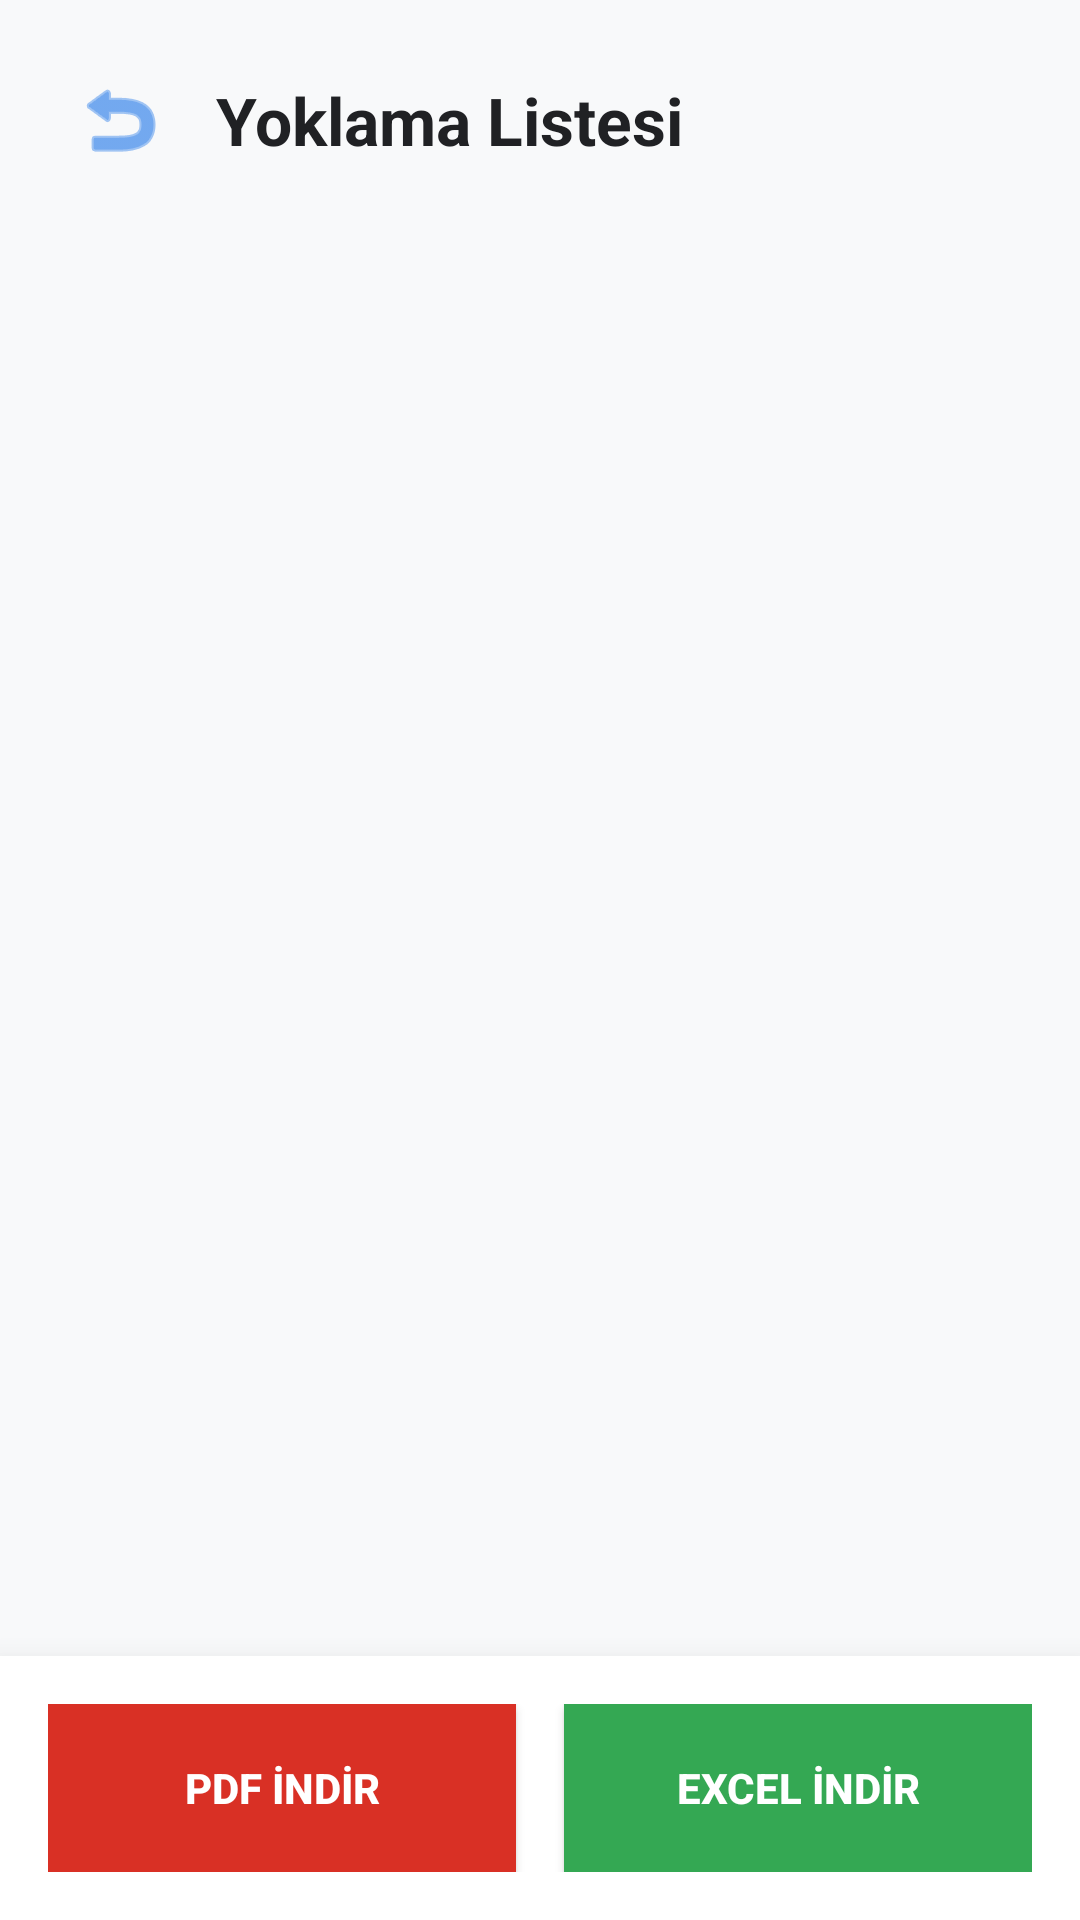

Icons on this 1080x1920 Android screen, each with its box as (x1, y1, x2, y2):
Geri: (87, 89, 156, 152)
